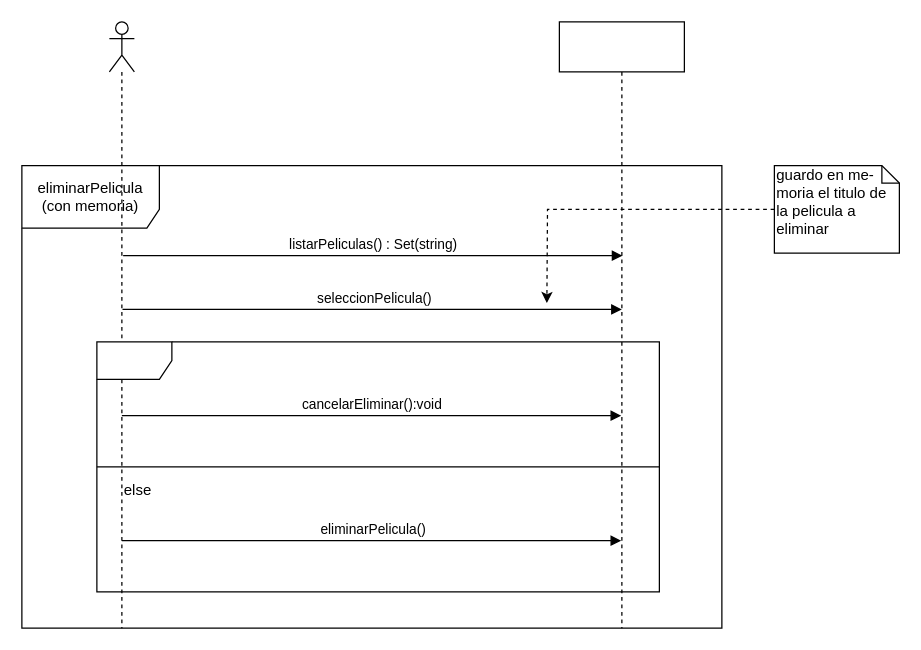
This 921x650 diagram has some shape labels left out. Here are the shapes that lost their labels. From the top down, the box of each, then its label:
(558, 21, 684, 628): :Sistema
(96, 341, 659, 592): alt
